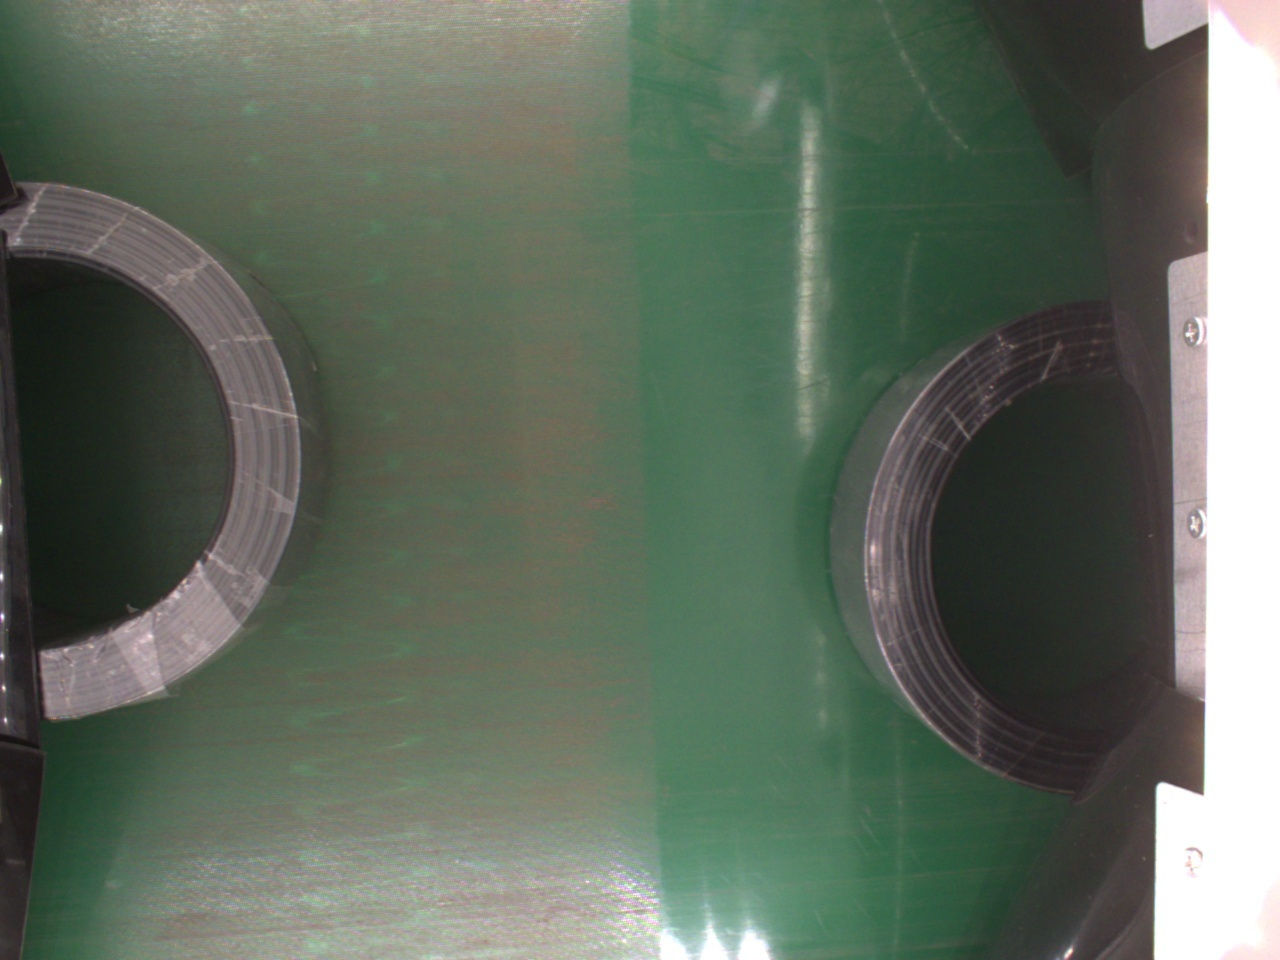black: (15, 179, 323, 723), (828, 301, 1161, 802)
